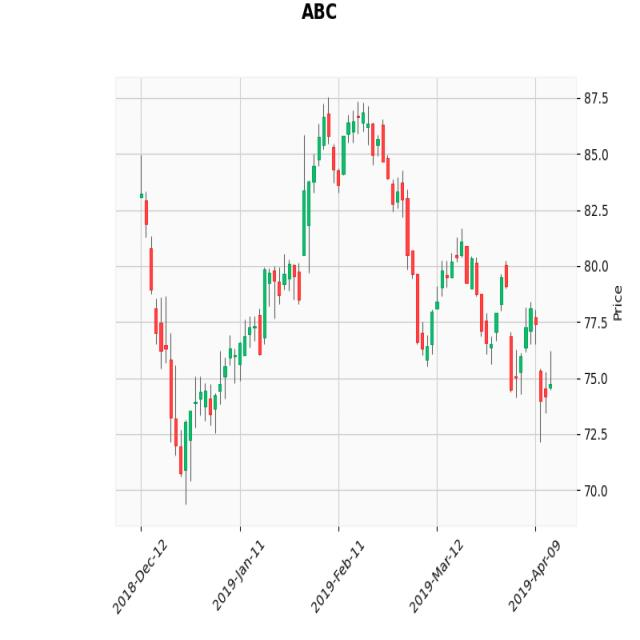Double-Top: (295, 97, 416, 267)
Head-Shoulders: (248, 89, 491, 378)
